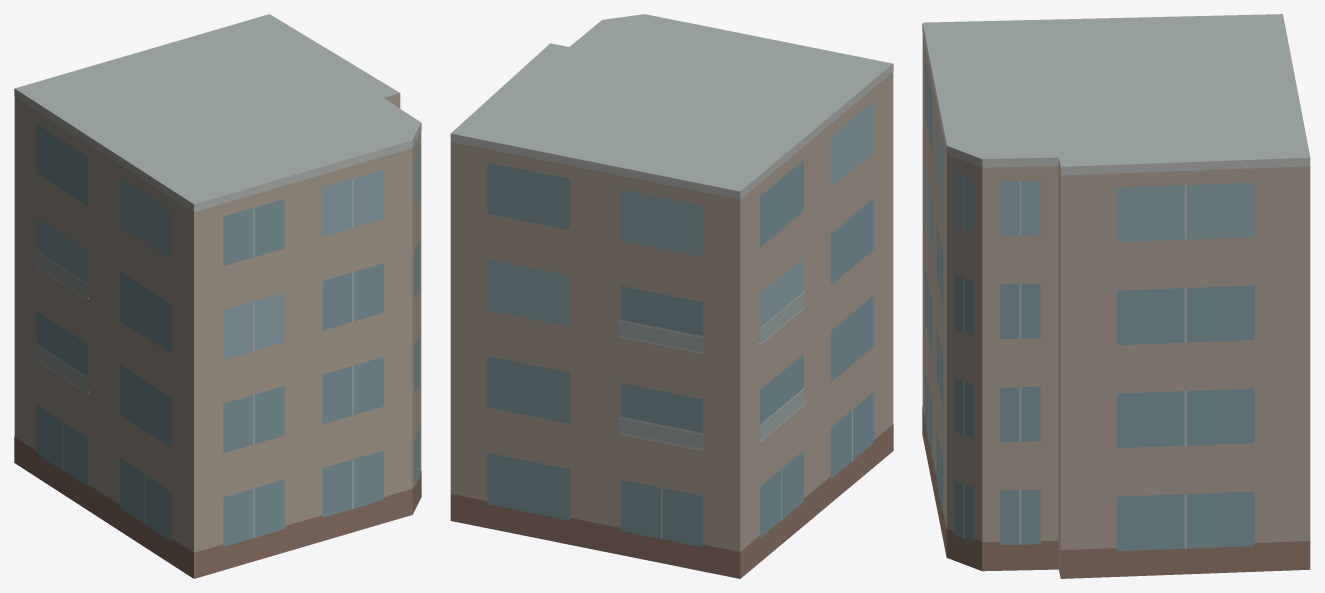
Rendered from survey-upis-32630675.glb.
3 renders of one model, left to right at view 1: azimuth 30°, elevation 25°; view 2: azimuth 150°, elevation 25°; view 3: azimuth 270°, elevation 25°, orthographic. The views are drawn at different scales.
Visible parts, largest first — view 1: survey-upis-32630675.tmp; view 2: survey-upis-32630675.tmp; view 3: survey-upis-32630675.tmp.
Boxes of the visible parts, left/top/right/bottom form: survey-upis-32630675.tmp: left=14, top=14, right=421, bottom=578; survey-upis-32630675.tmp: left=450, top=14, right=893, bottom=578; survey-upis-32630675.tmp: left=922, top=14, right=1310, bottom=578.
Bounding box in the file's own units: 9.32 × 11.7 × 9.99.
